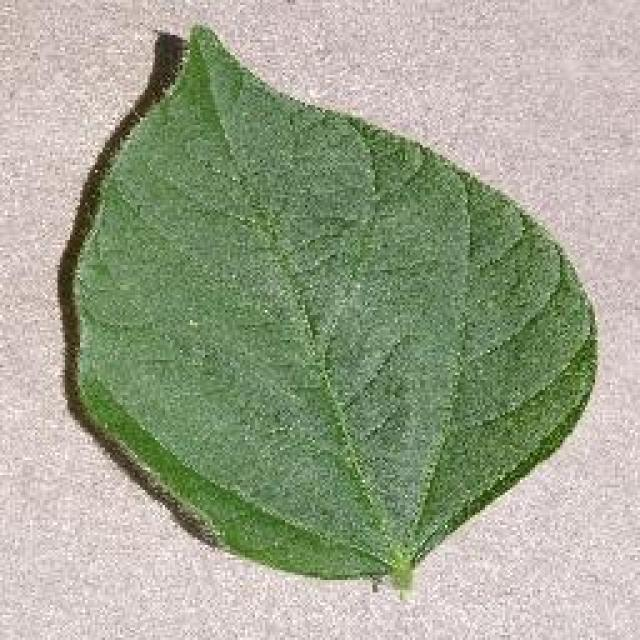Soy_healthy: (62, 50, 592, 572)
